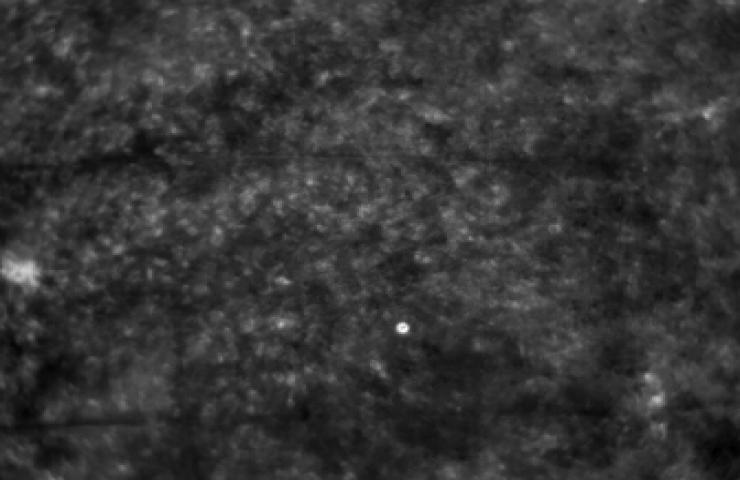landmines: (394, 321, 413, 337)
